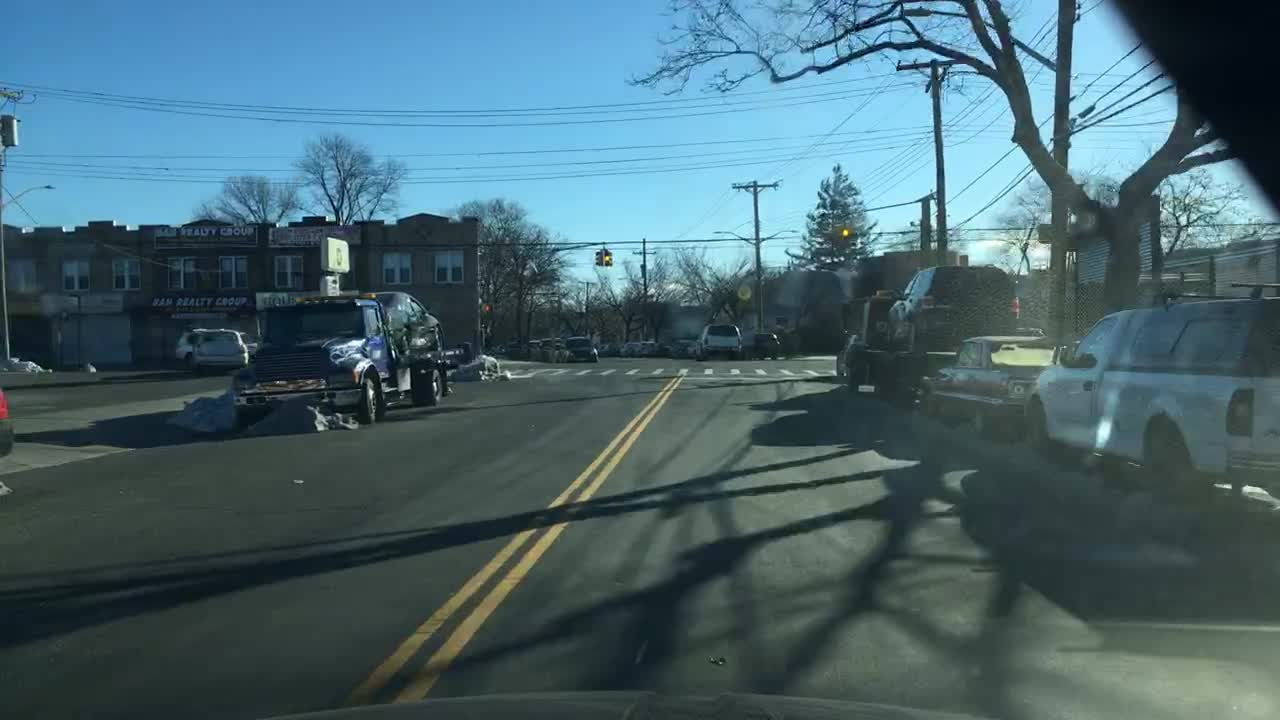car: (1023, 280, 1278, 507), (910, 333, 1070, 437), (881, 263, 1019, 349), (369, 290, 443, 355), (177, 327, 260, 362), (190, 329, 248, 371), (698, 322, 741, 357), (560, 333, 600, 361), (0, 388, 13, 474), (745, 330, 780, 358), (619, 345, 640, 357), (684, 338, 698, 355), (553, 332, 563, 352), (659, 343, 673, 357), (637, 343, 651, 357), (645, 343, 661, 355), (537, 336, 551, 348), (528, 334, 540, 348), (672, 343, 685, 352)
traffic light: (1035, 222, 1054, 243), (829, 224, 841, 252), (839, 223, 850, 249), (591, 243, 602, 268), (850, 222, 859, 250), (479, 305, 497, 318), (598, 245, 609, 266), (607, 245, 612, 266)
traffic sign: (734, 282, 753, 301)
truck: (226, 290, 453, 418), (818, 286, 958, 398)
